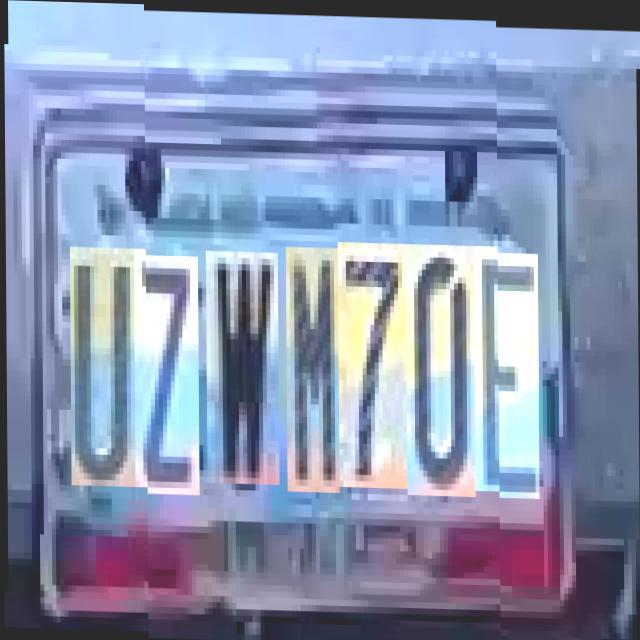0: (406, 241, 474, 494)
7: (338, 240, 407, 486)
E: (474, 243, 538, 489)
M: (286, 245, 338, 491)
U: (70, 252, 134, 492)
W: (206, 250, 278, 483)
Z: (134, 254, 198, 494)
